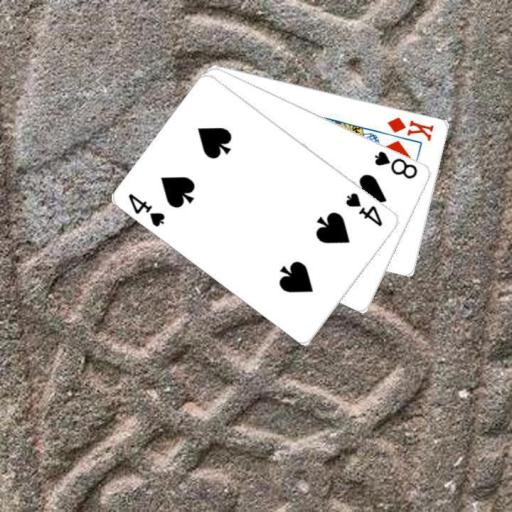card-corner: (371, 147, 420, 181), (342, 189, 384, 228), (125, 190, 167, 229), (384, 114, 436, 142)
